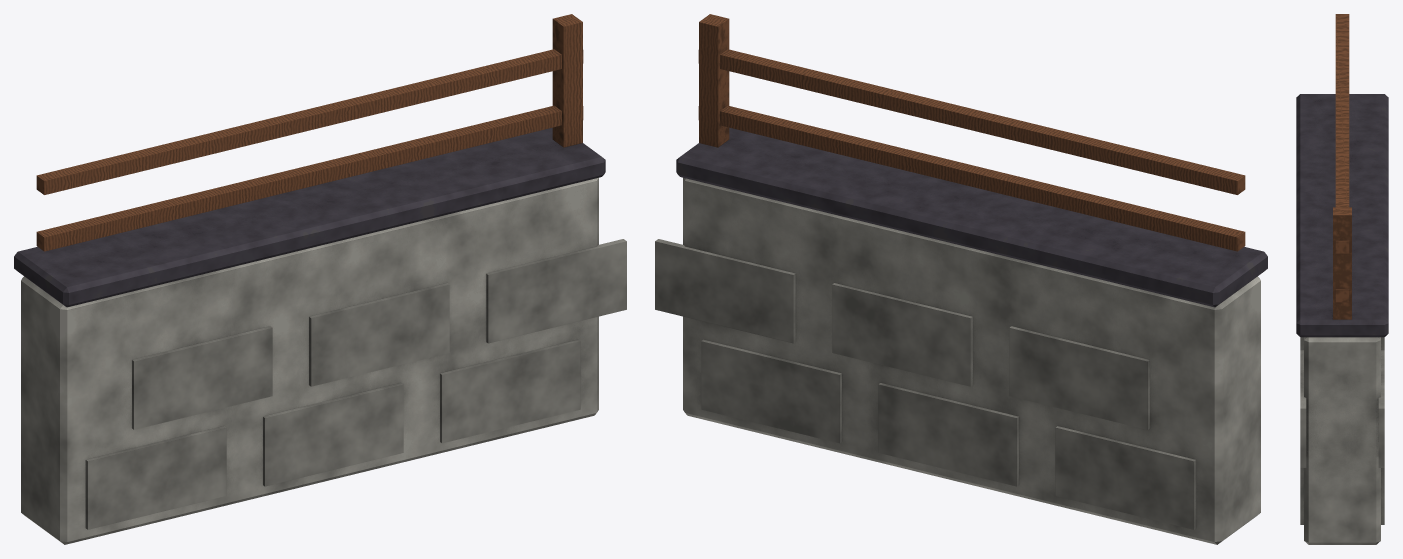
The model's file is wall_segment.fbx.
The picture shows the model from 3 angles, left to right: view 1: azimuth 30°, elevation 25°; view 2: azimuth 150°, elevation 25°; view 3: azimuth 270°, elevation 25°; orthographic projection. The views are drawn at different scales.
Visible parts, largest first — view 1: wall_segment; view 2: wall_segment; view 3: wall_segment.
Boxes of the visible parts, box(x1,y1,x2,y2) form: wall_segment: box(14, 14, 626, 544); wall_segment: box(655, 14, 1267, 544); wall_segment: box(1296, 14, 1388, 544).
Size of the model in its own units: 1465 by 950 by 240.
1 material, 1 textured.
